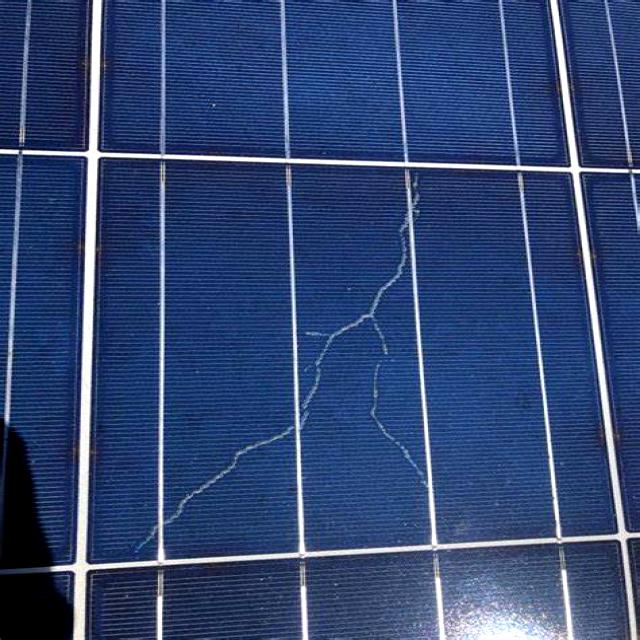shadow: (126, 180, 432, 555)
